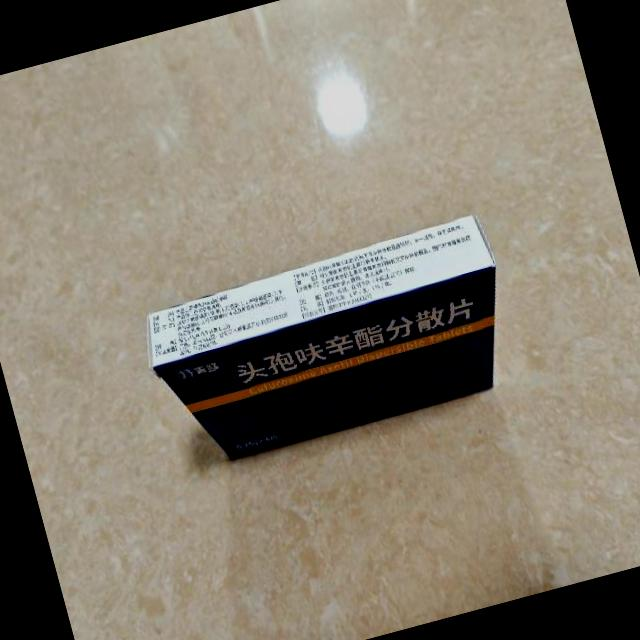box: (133, 212, 528, 476)
